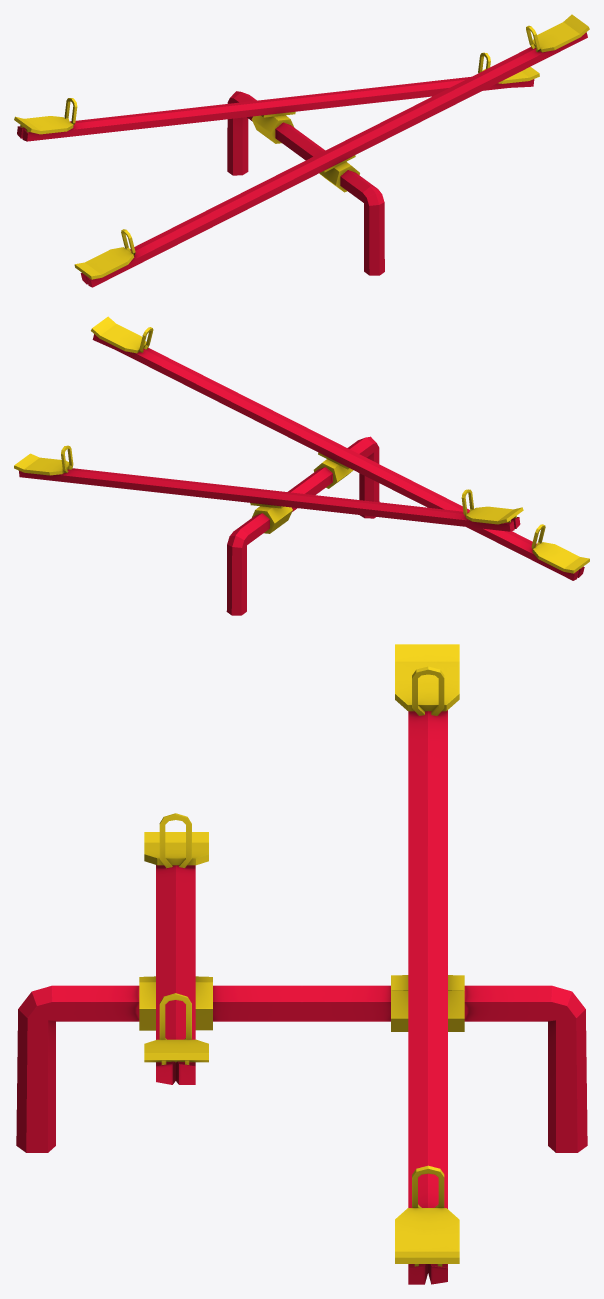
File: Giostra.fbx
3 views of the same model, one above another, from view 1: azimuth 30°, elevation 25°; view 2: azimuth 150°, elevation 25°; view 3: azimuth 270°, elevation 25° (orthographic). The views are drawn at different scales.
Visible parts, largest first — view 1: SeeSaw_Mesh; view 2: SeeSaw_Mesh; view 3: SeeSaw_Mesh.
Boxes of the visible parts, box(x1,y1,x2,y2) form: SeeSaw_Mesh: box(14, 14, 589, 287); SeeSaw_Mesh: box(14, 316, 589, 615); SeeSaw_Mesh: box(16, 644, 587, 1284).
Size of the model in its own units: 952 by 305 by 474.
Materials: 1 (1 with a texture image).
